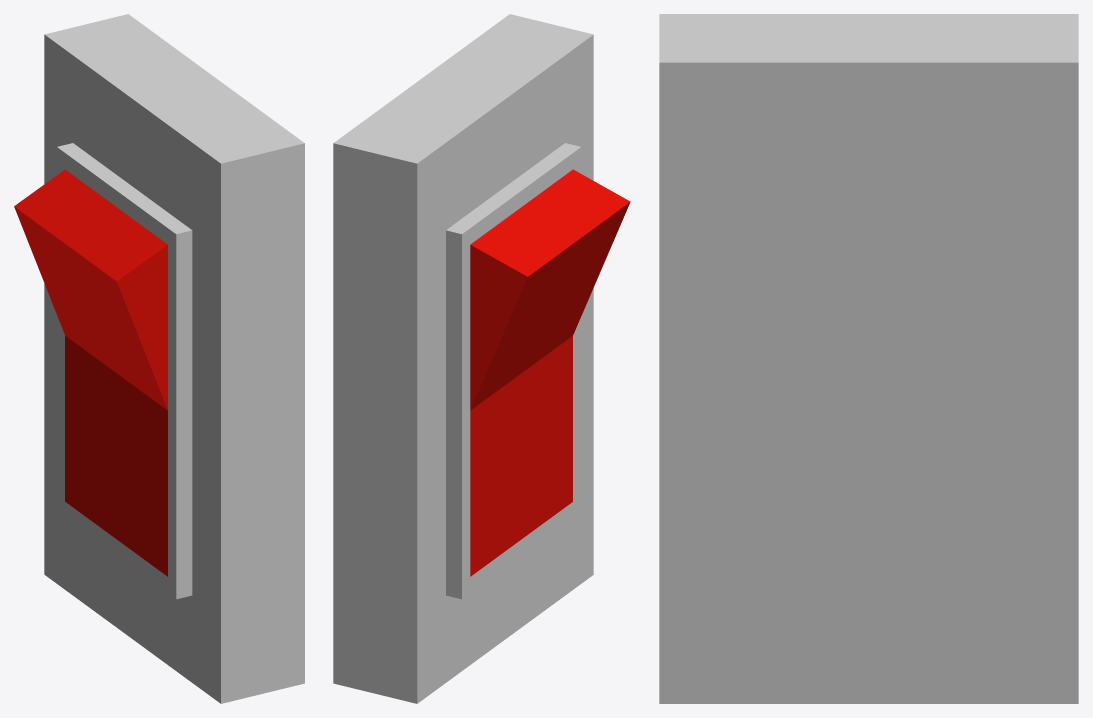
The model's file is canister_switch.fbx.
3 views of the same model, side by side, from view 1: azimuth 30°, elevation 25°; view 2: azimuth 150°, elevation 25°; view 3: azimuth 270°, elevation 25° (orthographic). The views are drawn at different scales.
Parts seen in each view (by area): view 1: Switch; view 2: Switch; view 3: Switch.
Part boxes in pixels (box(x1,y1,x2,y2)): Switch: box(14, 14, 304, 703); Switch: box(333, 14, 630, 703); Switch: box(659, 14, 1078, 703).
Bounding box in the file's own units: 2.39 × 7.98 × 4.73.
